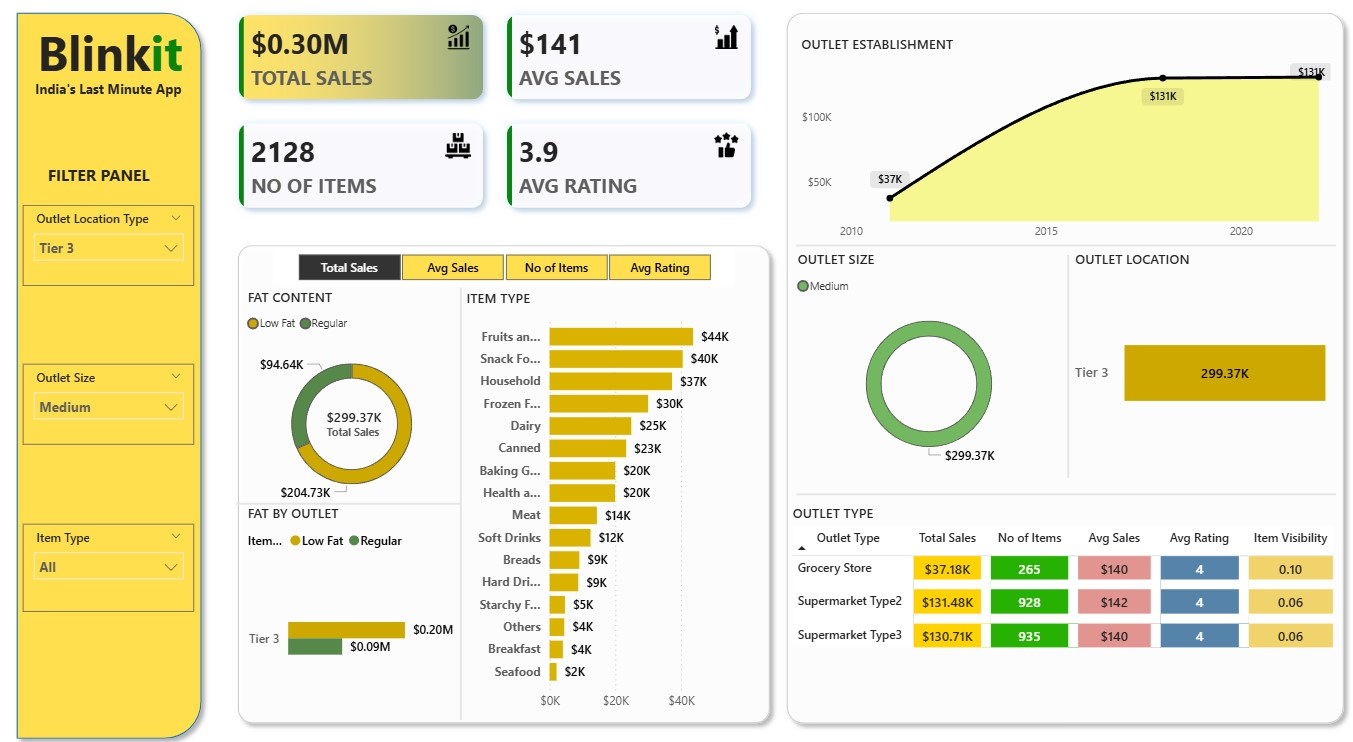

The page's visual inventory and layout, read from the dashboard file:
{"tool":"powerbi","page":{"name":"Page 1","canvas":[1375,800],"ordinal":0},"visuals":[{"type":"shape","box":[18.6,34.3,204.3,750],"z":0},{"type":"textbox","box":[38.6,45.7,165.7,82.9],"z":1000},{"type":"textbox","box":[41.4,105.7,160,35.7],"z":2000},{"type":"cardVisual","fields":{"Data":["BlinkIT Grocery Data.Total Sales","BlinkIT Grocery Data.Avg Sales","BlinkIT Grocery Data.No of Items","BlinkIT Grocery Data.Avg Rating"]},"box":[223.1,16.4,574.7,252],"z":3000},{"type":"shape","box":[241.4,268.6,554.3,500],"z":4000},{"type":"donutChart","title":"FAT CONTENT","fields":{"Y":["BlinkIT Grocery Data.Total Sales"],"Category":["BlinkIT Grocery Data.Item Fat Content"]},"box":[255.7,320,220,230],"z":5000},{"type":"slicer","fields":{"Values":["Metrics.Metrics"]},"box":[285.7,280,465.7,40],"z":6000},{"type":"cardVisual","fields":{"Data":["BlinkIT Grocery Data.Total Sales"]},"box":[311.2,420,146.2,75],"z":7000},{"type":"clusteredBarChart","title":"FAT BY OUTLET","fields":{"Y":["BlinkIT Grocery Data.Total Sales"],"Category":["BlinkIT Grocery Data.Outlet Location Type"],"Series":["BlinkIT Grocery Data.Item Fat Content"]},"box":[256.2,537.5,218.8,220],"z":8000},{"type":"shape","box":[249.5,529.3,226.8,17.6],"z":9000},{"type":"shape","box":[457.5,320.1,36.5,436],"z":10000},{"type":"barChart","title":"ITEM TYPE","fields":{"Y":["BlinkIT Grocery Data.Total Sales"],"Category":["BlinkIT Grocery Data.Item Type"]},"box":[476.4,321.4,305,433.5],"z":11000},{"type":"shape","box":[795.2,34,579.7,734.7],"z":12000},{"type":"lineChart","title":"OUTLET ESTABLISHMENT","fields":{"Category":["BlinkIT Grocery Data.Outlet Establishment Year"],"Y":["BlinkIT Grocery Data.Total Sales"]},"box":[813.8,65,543.8,215],"z":13000},{"type":"shape","box":[813.8,268.8,543.8,18.8],"z":14000},{"type":"donutChart","title":"OUTLET SIZE","fields":{"Y":["BlinkIT Grocery Data.Total Sales"],"Category":["BlinkIT Grocery Data.Outlet Size"]},"box":[810,282.5,275,225],"z":15000},{"type":"shape","box":[1070,287.5,36.2,225],"z":16000},{"type":"funnel","title":"OUTLET LOCATION","fields":{"Y":["Sum(BlinkIT Grocery Data.Sales)"],"Category":["BlinkIT Grocery Data.Outlet Location Type"]},"box":[1090,282.5,267.5,230],"z":17000},{"type":"shape","box":[813.8,518.8,543.8,18.8],"z":18000},{"type":"pivotTable","title":"OUTLET TYPE","fields":{"Rows":["BlinkIT Grocery Data.Outlet Type"],"Values":["BlinkIT Grocery Data.Total Sales","BlinkIT Grocery Data.No of Items","BlinkIT Grocery Data.Avg Sales","BlinkIT Grocery Data.Avg Rating","Avg(BlinkIT Grocery Data.Item Visibility)"]},"box":[805,537.5,560,207.5],"z":19000},{"type":"slicer","fields":{"Values":["BlinkIT Grocery Data.Outlet Location Type"]},"box":[34.3,237.1,172.9,81.4],"z":20000},{"type":"slicer","fields":{"Values":["BlinkIT Grocery Data.Outlet Size"]},"box":[34.3,397.1,172.9,81.4],"z":21000},{"type":"slicer","fields":{"Values":["BlinkIT Grocery Data.Item Type"]},"box":[34.3,558.6,172.9,88.6],"z":22000},{"type":"textbox","box":[54.3,190,134.3,37.1],"z":23000}]}

Visuals, with their boxes on the page's 1375x800 design canvas (x1, y1, x2, y2). These are canvas units, not pixel positions in the 1353x742 screenshot, which may show the page scaled, cropped or inside an application window:
shape: select_region(19, 34, 223, 784)
textbox: select_region(39, 46, 204, 129)
textbox: select_region(41, 106, 201, 141)
cardVisual - BlinkIT Grocery Data.Total Sales x BlinkIT Grocery Data.Avg Sales: select_region(223, 16, 798, 268)
shape: select_region(241, 269, 796, 769)
"FAT CONTENT" donutChart: select_region(256, 320, 476, 550)
slicer - Metrics.Metrics: select_region(286, 280, 751, 320)
cardVisual - BlinkIT Grocery Data.Total Sales: select_region(311, 420, 457, 495)
"FAT BY OUTLET" clusteredBarChart: select_region(256, 538, 475, 758)
shape: select_region(250, 529, 476, 547)
shape: select_region(458, 320, 494, 756)
"ITEM TYPE" barChart: select_region(476, 321, 781, 755)
shape: select_region(795, 34, 1375, 769)
"OUTLET ESTABLISHMENT" lineChart: select_region(814, 65, 1358, 280)
shape: select_region(814, 269, 1358, 288)
"OUTLET SIZE" donutChart: select_region(810, 282, 1085, 508)
shape: select_region(1070, 288, 1106, 512)
"OUTLET LOCATION" funnel: select_region(1090, 282, 1358, 512)
shape: select_region(814, 519, 1358, 538)
"OUTLET TYPE" pivotTable: select_region(805, 538, 1365, 745)
slicer - BlinkIT Grocery Data.Outlet Location Type: select_region(34, 237, 207, 318)
slicer - BlinkIT Grocery Data.Outlet Size: select_region(34, 397, 207, 478)
slicer - BlinkIT Grocery Data.Item Type: select_region(34, 559, 207, 647)
textbox: select_region(54, 190, 189, 227)
